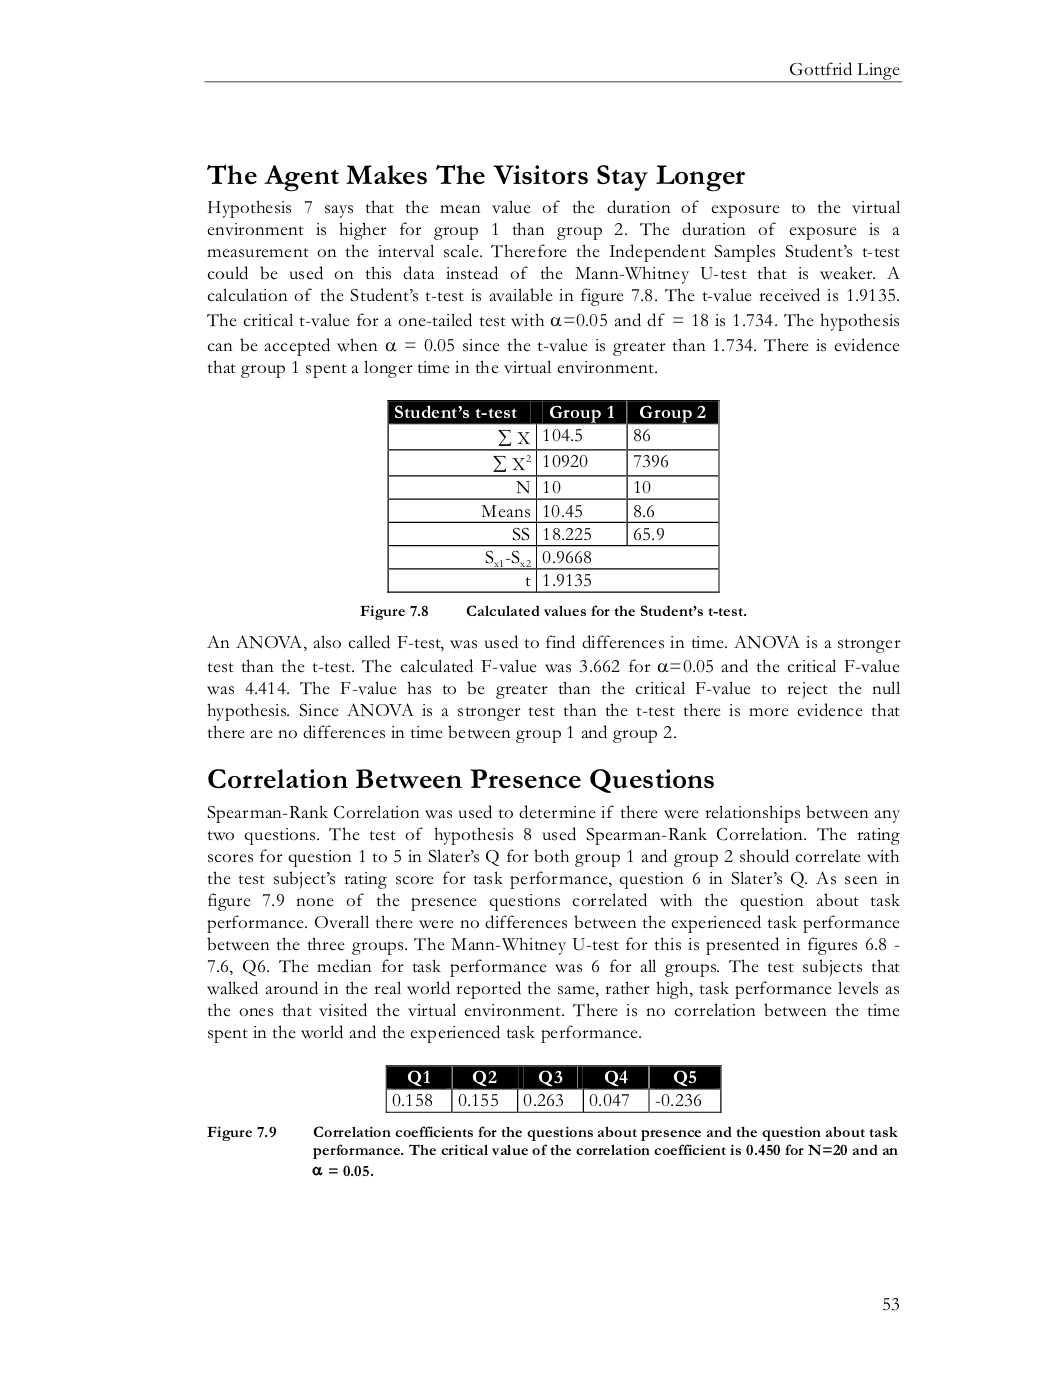Table: (387, 399, 719, 593), (385, 1064, 721, 1113)
